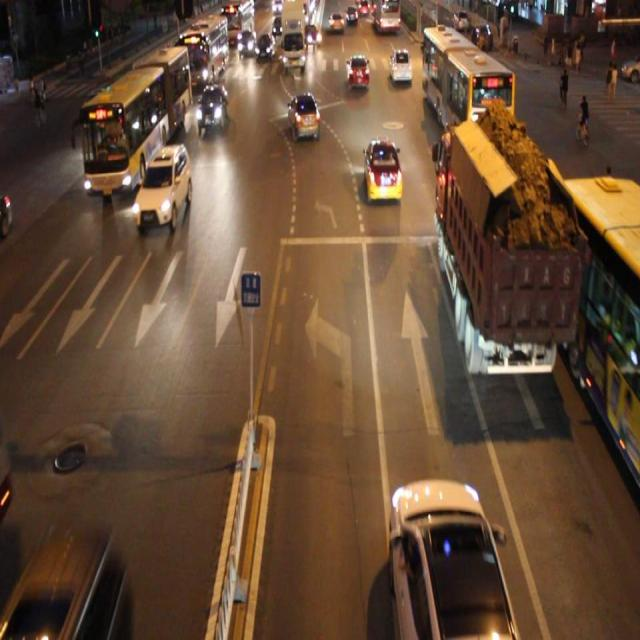bus: (434, 128, 566, 371)
car: (387, 476, 520, 640), (133, 143, 192, 228), (364, 137, 404, 204), (194, 81, 230, 132), (286, 90, 321, 141), (71, 91, 104, 137), (345, 52, 370, 90), (388, 47, 412, 82)
van: (556, 175, 640, 498), (85, 46, 188, 196), (423, 26, 513, 151)
